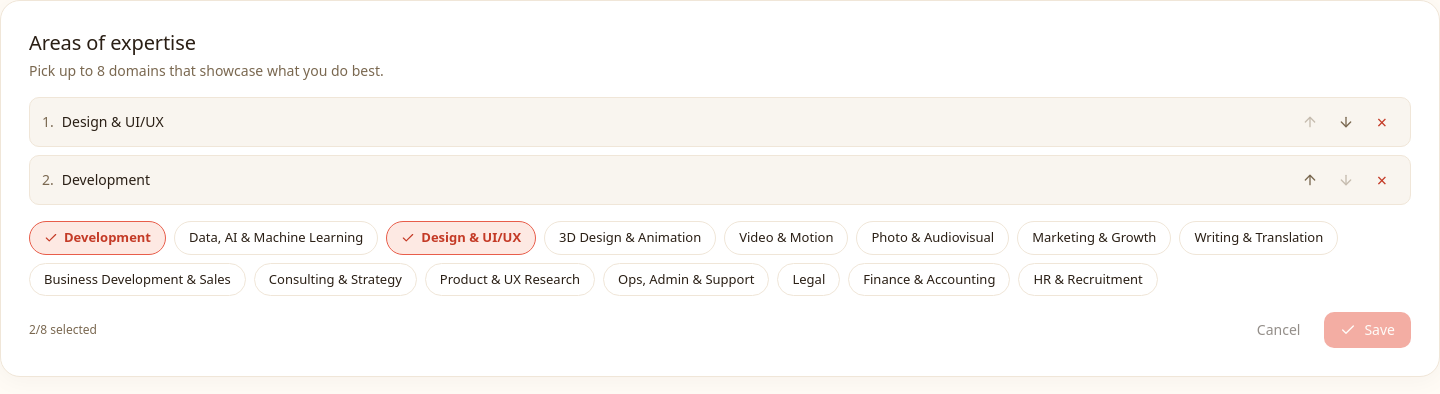
Test: ExpertiseEditor › moves an item up when the move-up arrow is clicked
The width and height of the screenshot is (1440, 394).
Click the button named "Move Development up": coordinates (1310, 180) [1294, 164, 1326, 196]
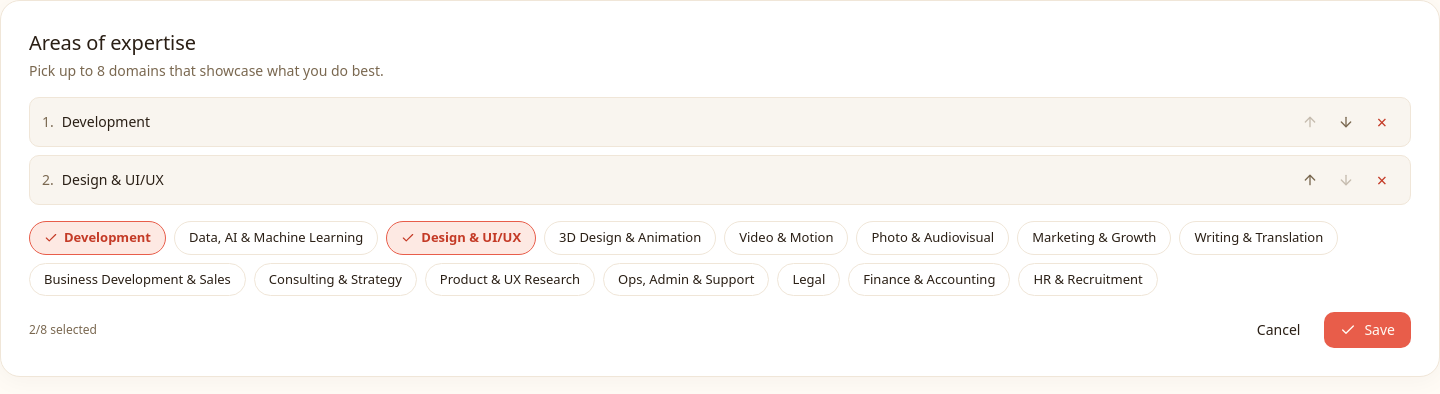
Check: the list named "Selected expertise domains, ordered" shows "1.Development", box [29, 97, 1411, 205]
